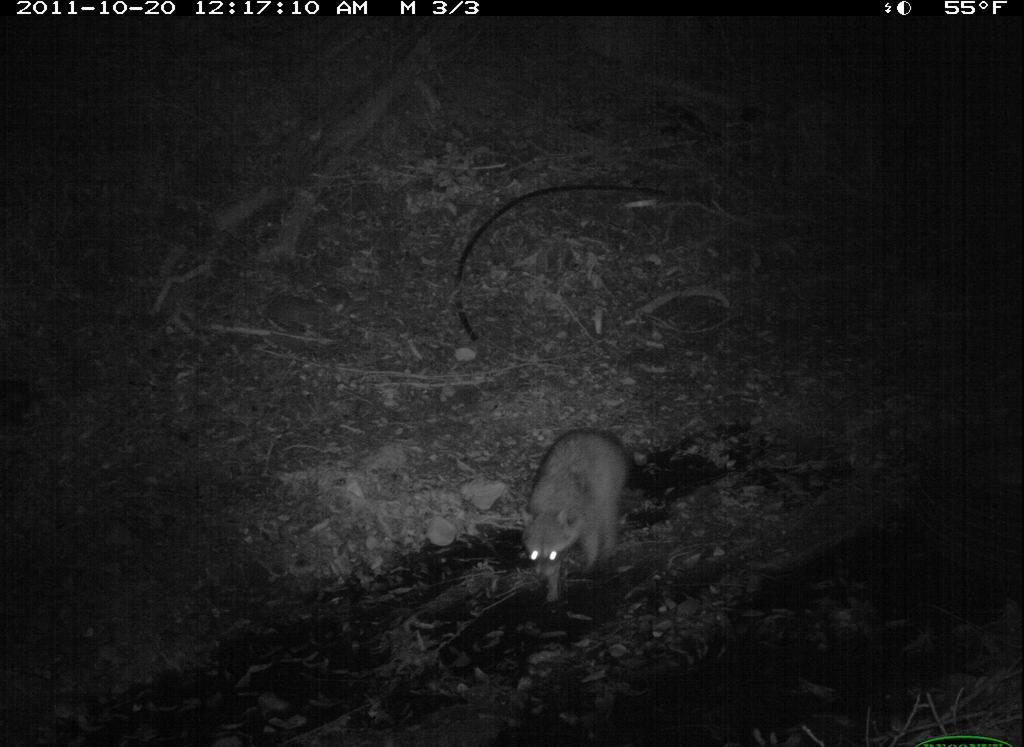raccoon: (498, 409, 656, 624)
